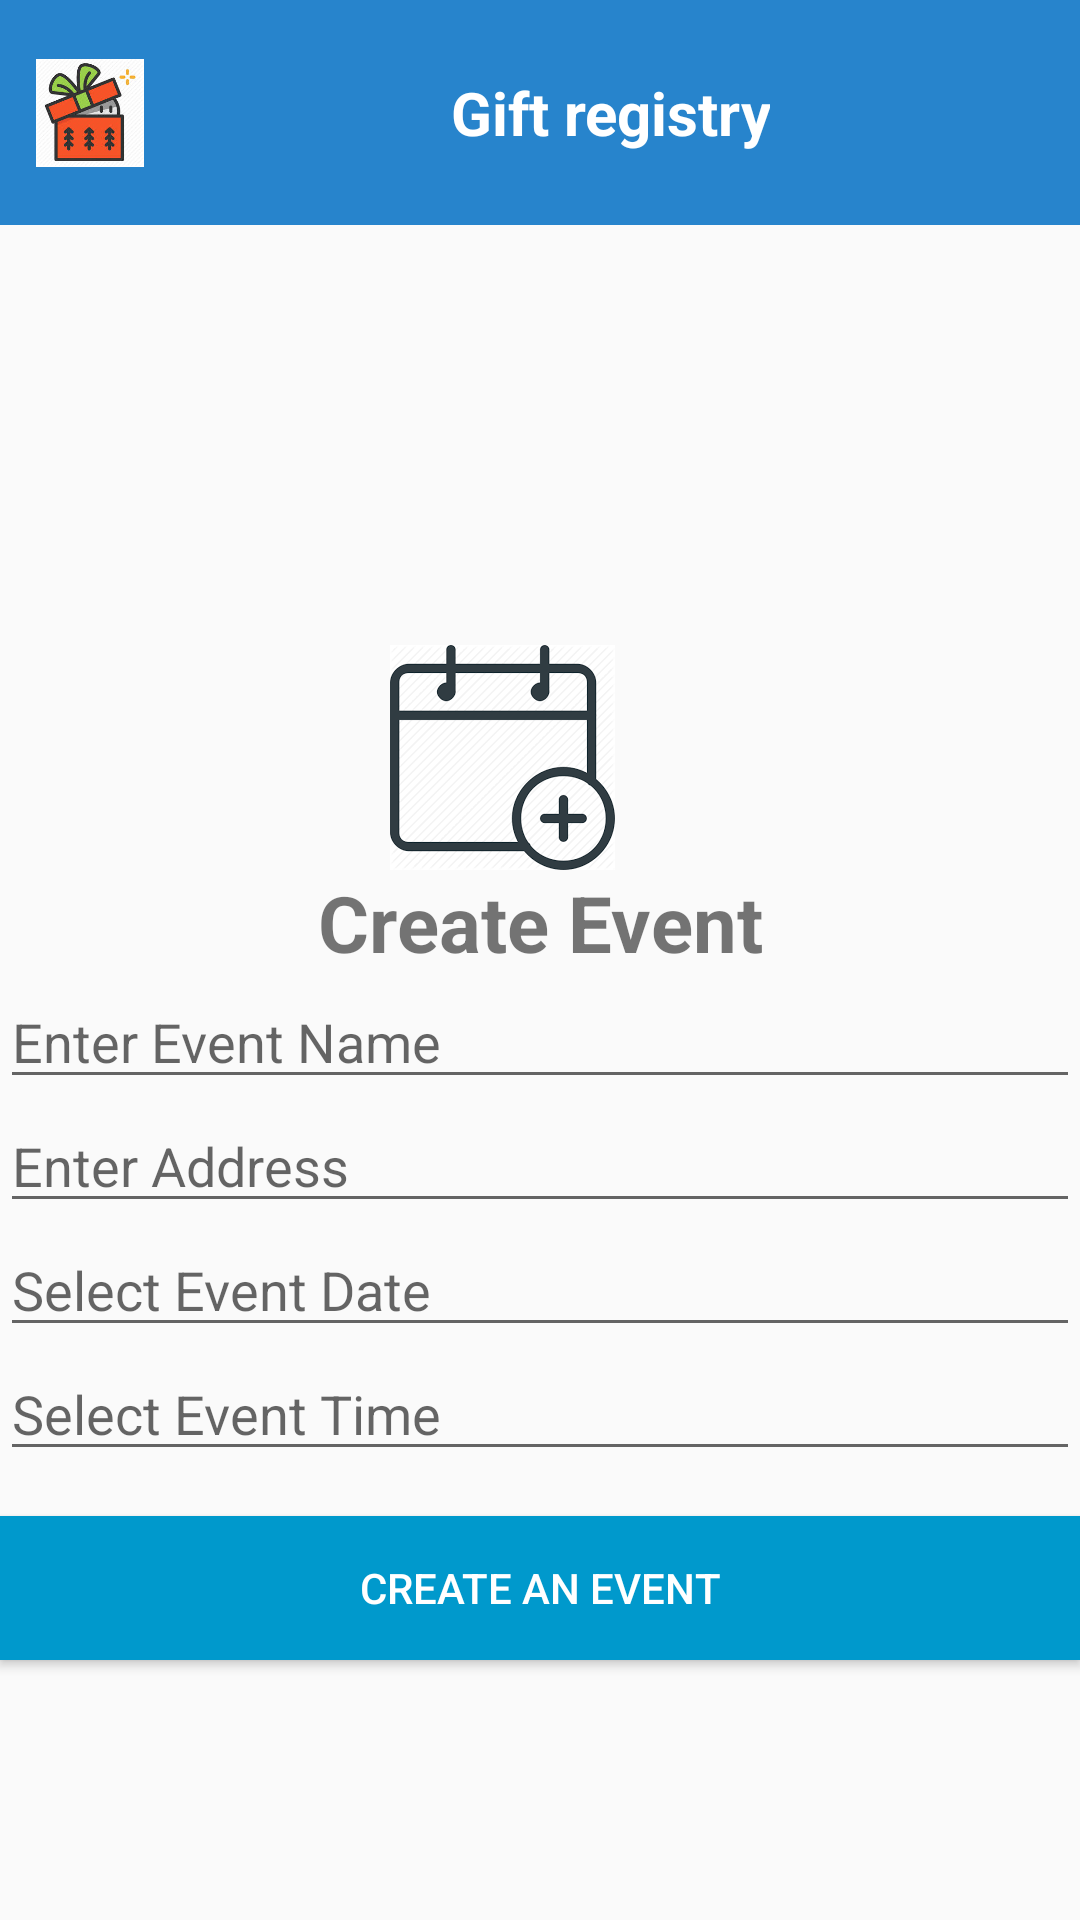

Screen size 1080 × 1920. Icon name, then its center in pixels as (x=x, y=y):
gift: (x=90, y=113)
